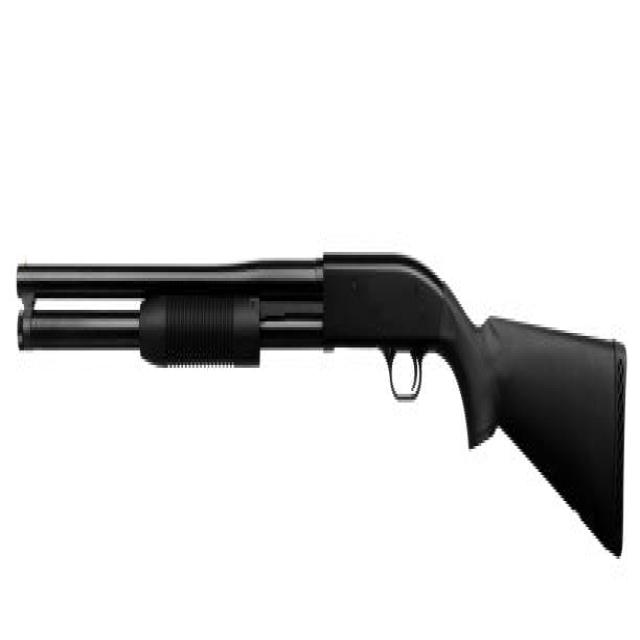rifle: (6, 239, 638, 583)
